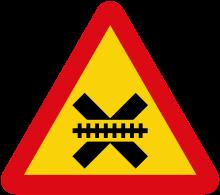Barrier Ahead: (15, 13, 206, 189)
